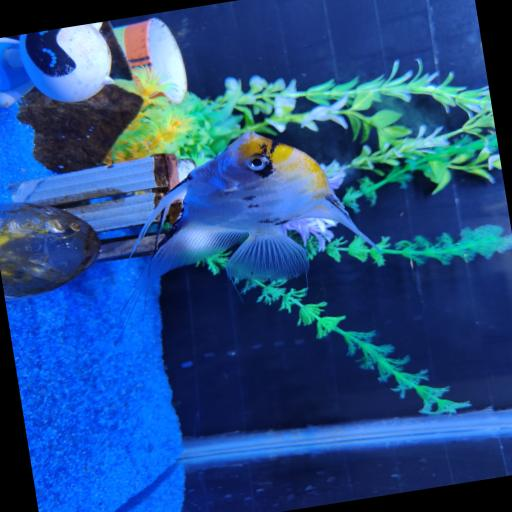Fish: (125, 131, 374, 312)
